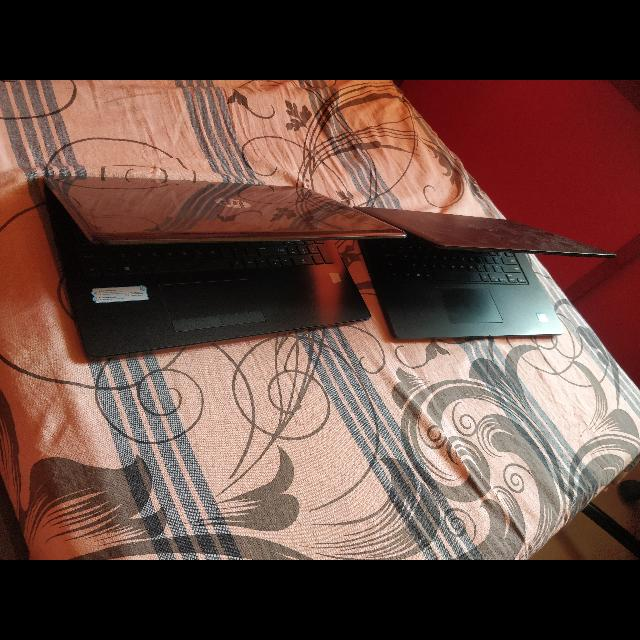Laptop: (18, 168, 412, 366), (346, 199, 624, 353)
